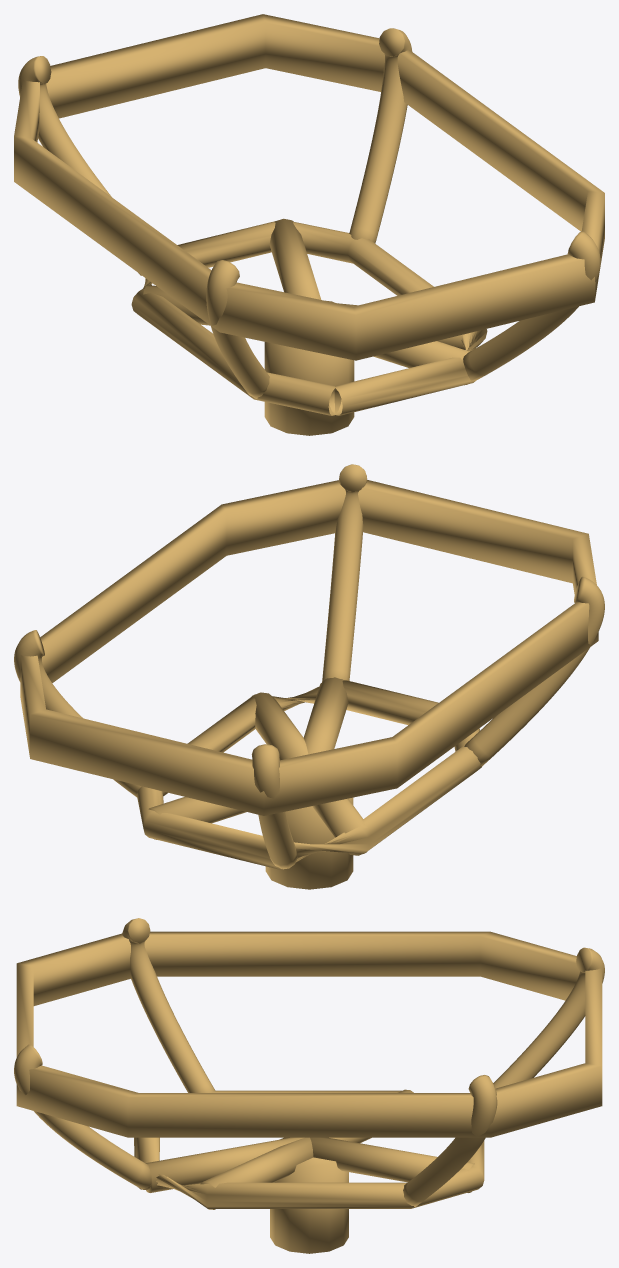
The model's file is stuller-lg-500106810-bezel.glb.
3 views of the same model, one above another, from view 1: azimuth 30°, elevation 25°; view 2: azimuth 150°, elevation 25°; view 3: azimuth 270°, elevation 25° (orthographic). The views are drawn at different scales.
Parts seen in each view (by area): view 1: Metal.268, Metal.263, Metal.269, Metal.262, Metal.272, Metal.271, Metal.270, Metal.265, Metal.267; view 2: Metal.268, Metal.263, Metal.272, Metal.271, Metal.262, Metal.270, Metal.267, Metal.264, Metal.269, Metal.265, Metal.266; view 3: Metal.268, Metal.263, Metal.271, Metal.262, Metal.270, Metal.272, Metal.269, Metal.265, Metal.267, Metal.264.
Part boxes in pixels (box(x1,y1,x2,y2)): Metal.268: box(14, 14, 604, 360); Metal.263: box(131, 221, 487, 415); Metal.269: box(349, 28, 412, 243); Metal.262: box(264, 300, 354, 435); Metal.272: box(463, 231, 600, 380); Metal.271: box(206, 260, 269, 398); Metal.270: box(18, 56, 141, 275); Metal.265: box(269, 218, 321, 299); Metal.267: box(373, 341, 469, 385); Metal.268: box(20, 479, 598, 815); Metal.263: box(136, 680, 481, 870); Metal.272: box(322, 464, 367, 681); Metal.271: box(464, 576, 604, 766); Metal.262: box(265, 797, 353, 889); Metal.270: box(251, 744, 297, 869); Metal.267: box(303, 677, 348, 754); Metal.264: box(251, 692, 308, 760); Metal.269: box(14, 630, 141, 797); Metal.265: box(148, 797, 246, 839); Metal.266: box(312, 798, 367, 855); Metal.268: box(16, 931, 602, 1137); Metal.263: box(134, 1090, 484, 1208); Metal.271: box(122, 918, 215, 1092); Metal.262: box(270, 1137, 348, 1253); Metal.270: box(493, 947, 604, 1088); Metal.272: box(14, 1044, 151, 1189); Metal.269: box(403, 1075, 497, 1206); Metal.265: box(310, 1137, 474, 1192); Metal.267: box(145, 1137, 304, 1192); Metal.264: box(200, 1137, 313, 1209).
Bounding box in the file's own units: 6.19 × 4.02 × 8.96.
